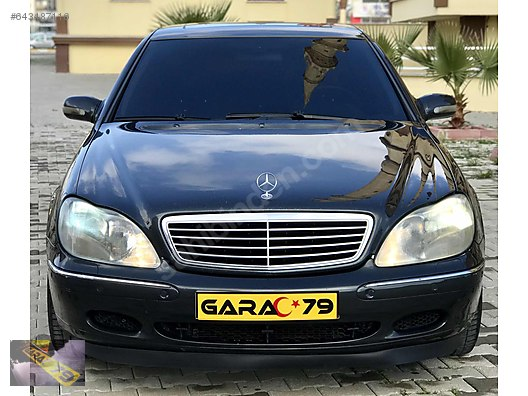mercedes: (43, 20, 485, 375)
